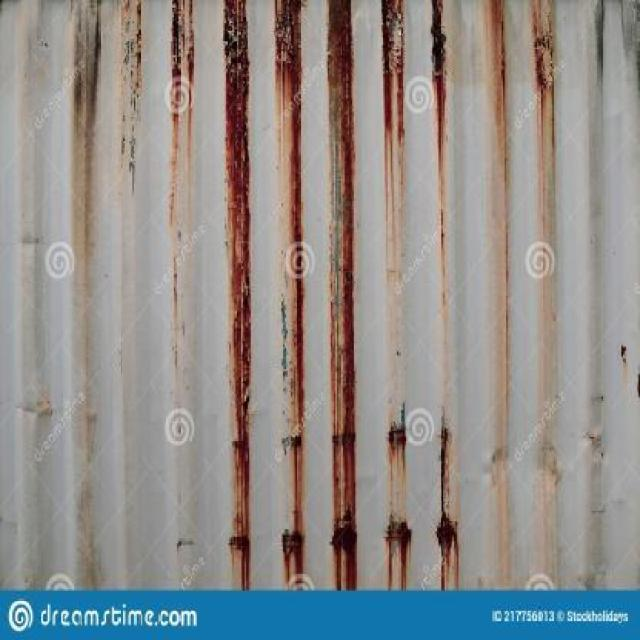dent: (478, 440, 514, 486), (583, 420, 612, 474), (532, 449, 568, 491)
rust: (274, 1, 307, 593), (328, 1, 359, 593), (224, 1, 252, 592), (435, 424, 461, 592), (382, 1, 405, 176), (169, 1, 197, 124), (430, 1, 450, 156), (384, 509, 415, 591), (533, 12, 556, 110), (387, 404, 409, 472)
